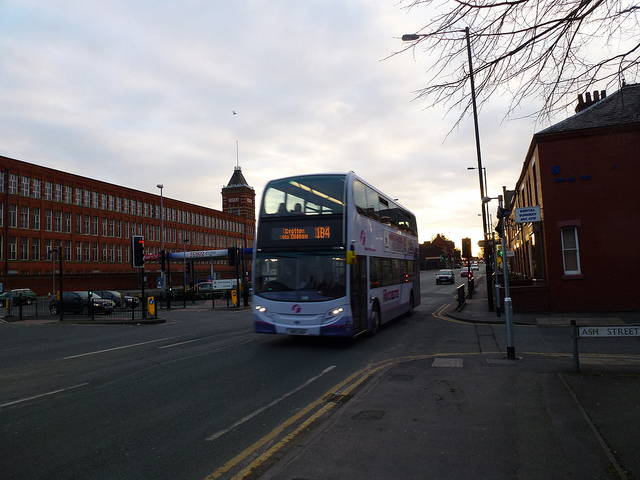Bus: (251, 173, 422, 340)
Traffic light: (131, 231, 155, 275)
